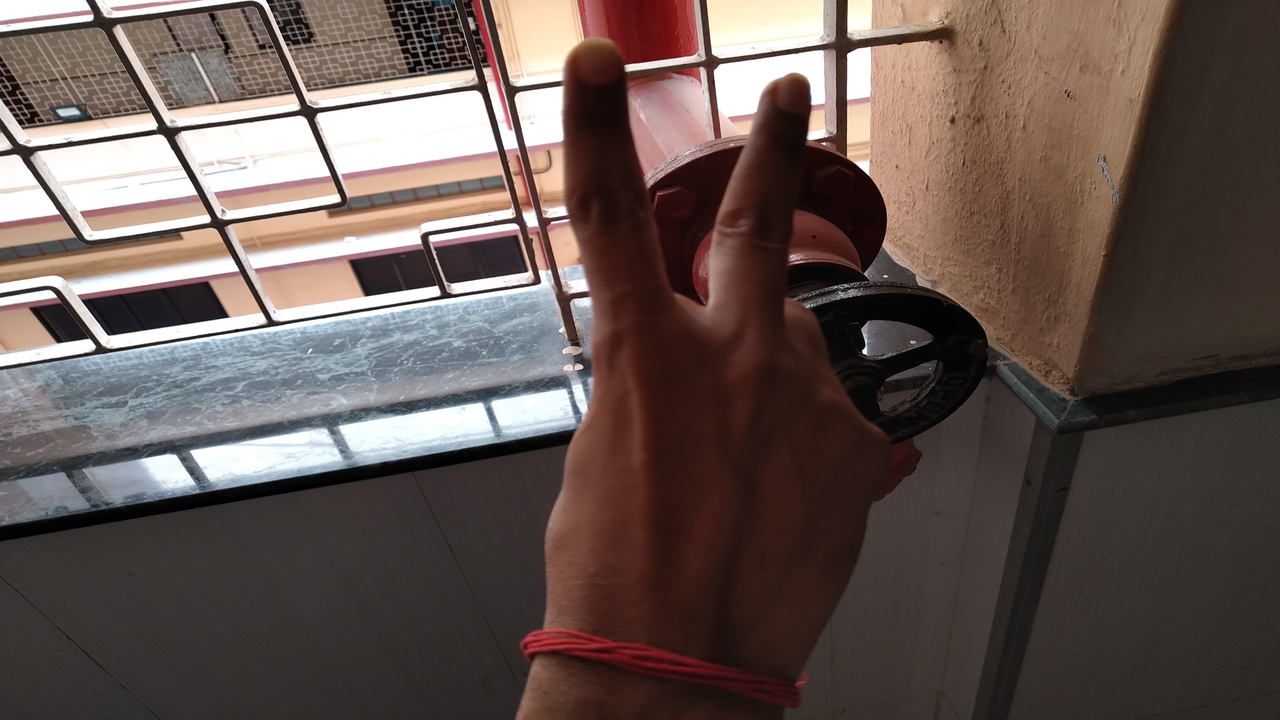fingertip: (756, 70, 820, 130), (568, 34, 626, 94)
